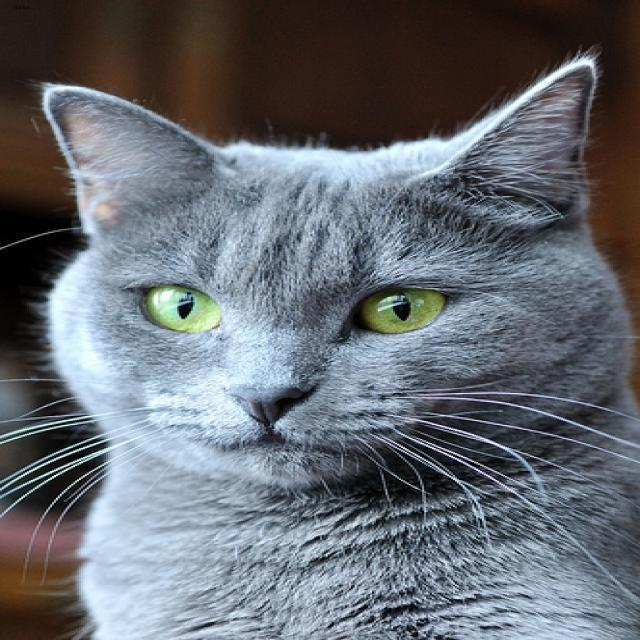Russian_Blue: (38, 55, 592, 485)
